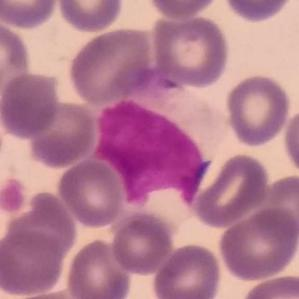Lymphocyte: (95, 68, 227, 207)
Platelets: (0, 176, 33, 216)
RBC: (66, 25, 158, 107), (148, 12, 233, 89), (188, 151, 271, 229), (217, 205, 299, 282), (1, 189, 80, 263), (22, 97, 100, 169), (223, 72, 293, 148), (55, 157, 126, 229), (0, 226, 67, 297), (109, 209, 176, 277), (63, 236, 134, 299), (150, 241, 224, 299), (0, 70, 61, 140), (0, 16, 34, 100), (259, 173, 299, 240), (53, 0, 126, 34), (0, 0, 61, 31), (221, 0, 296, 24), (238, 272, 299, 298), (144, 0, 222, 20), (281, 105, 299, 179), (10, 287, 88, 299)
